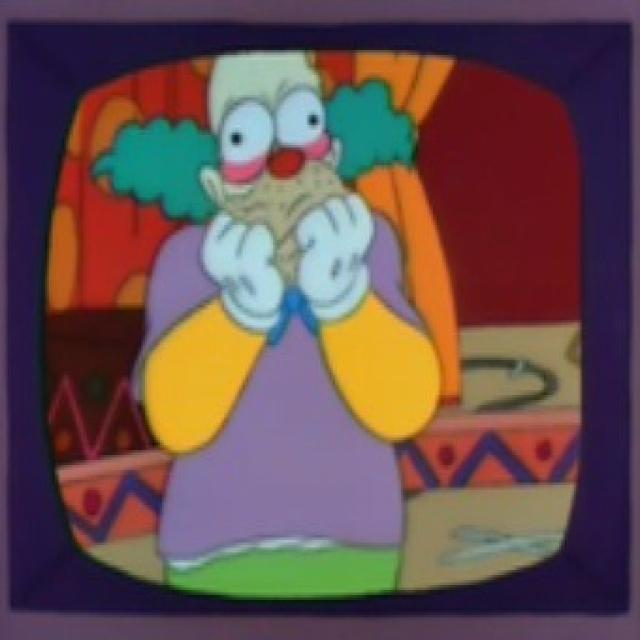Krusty the Clown: (95, 49, 425, 276)
